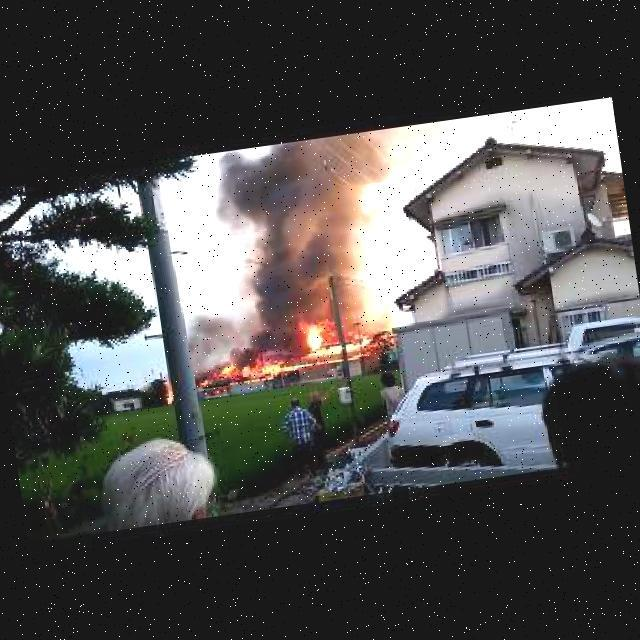Fire: (216, 351, 363, 385), (303, 314, 397, 358), (166, 385, 176, 402), (197, 378, 210, 388)
Smoke: (217, 140, 394, 351)
